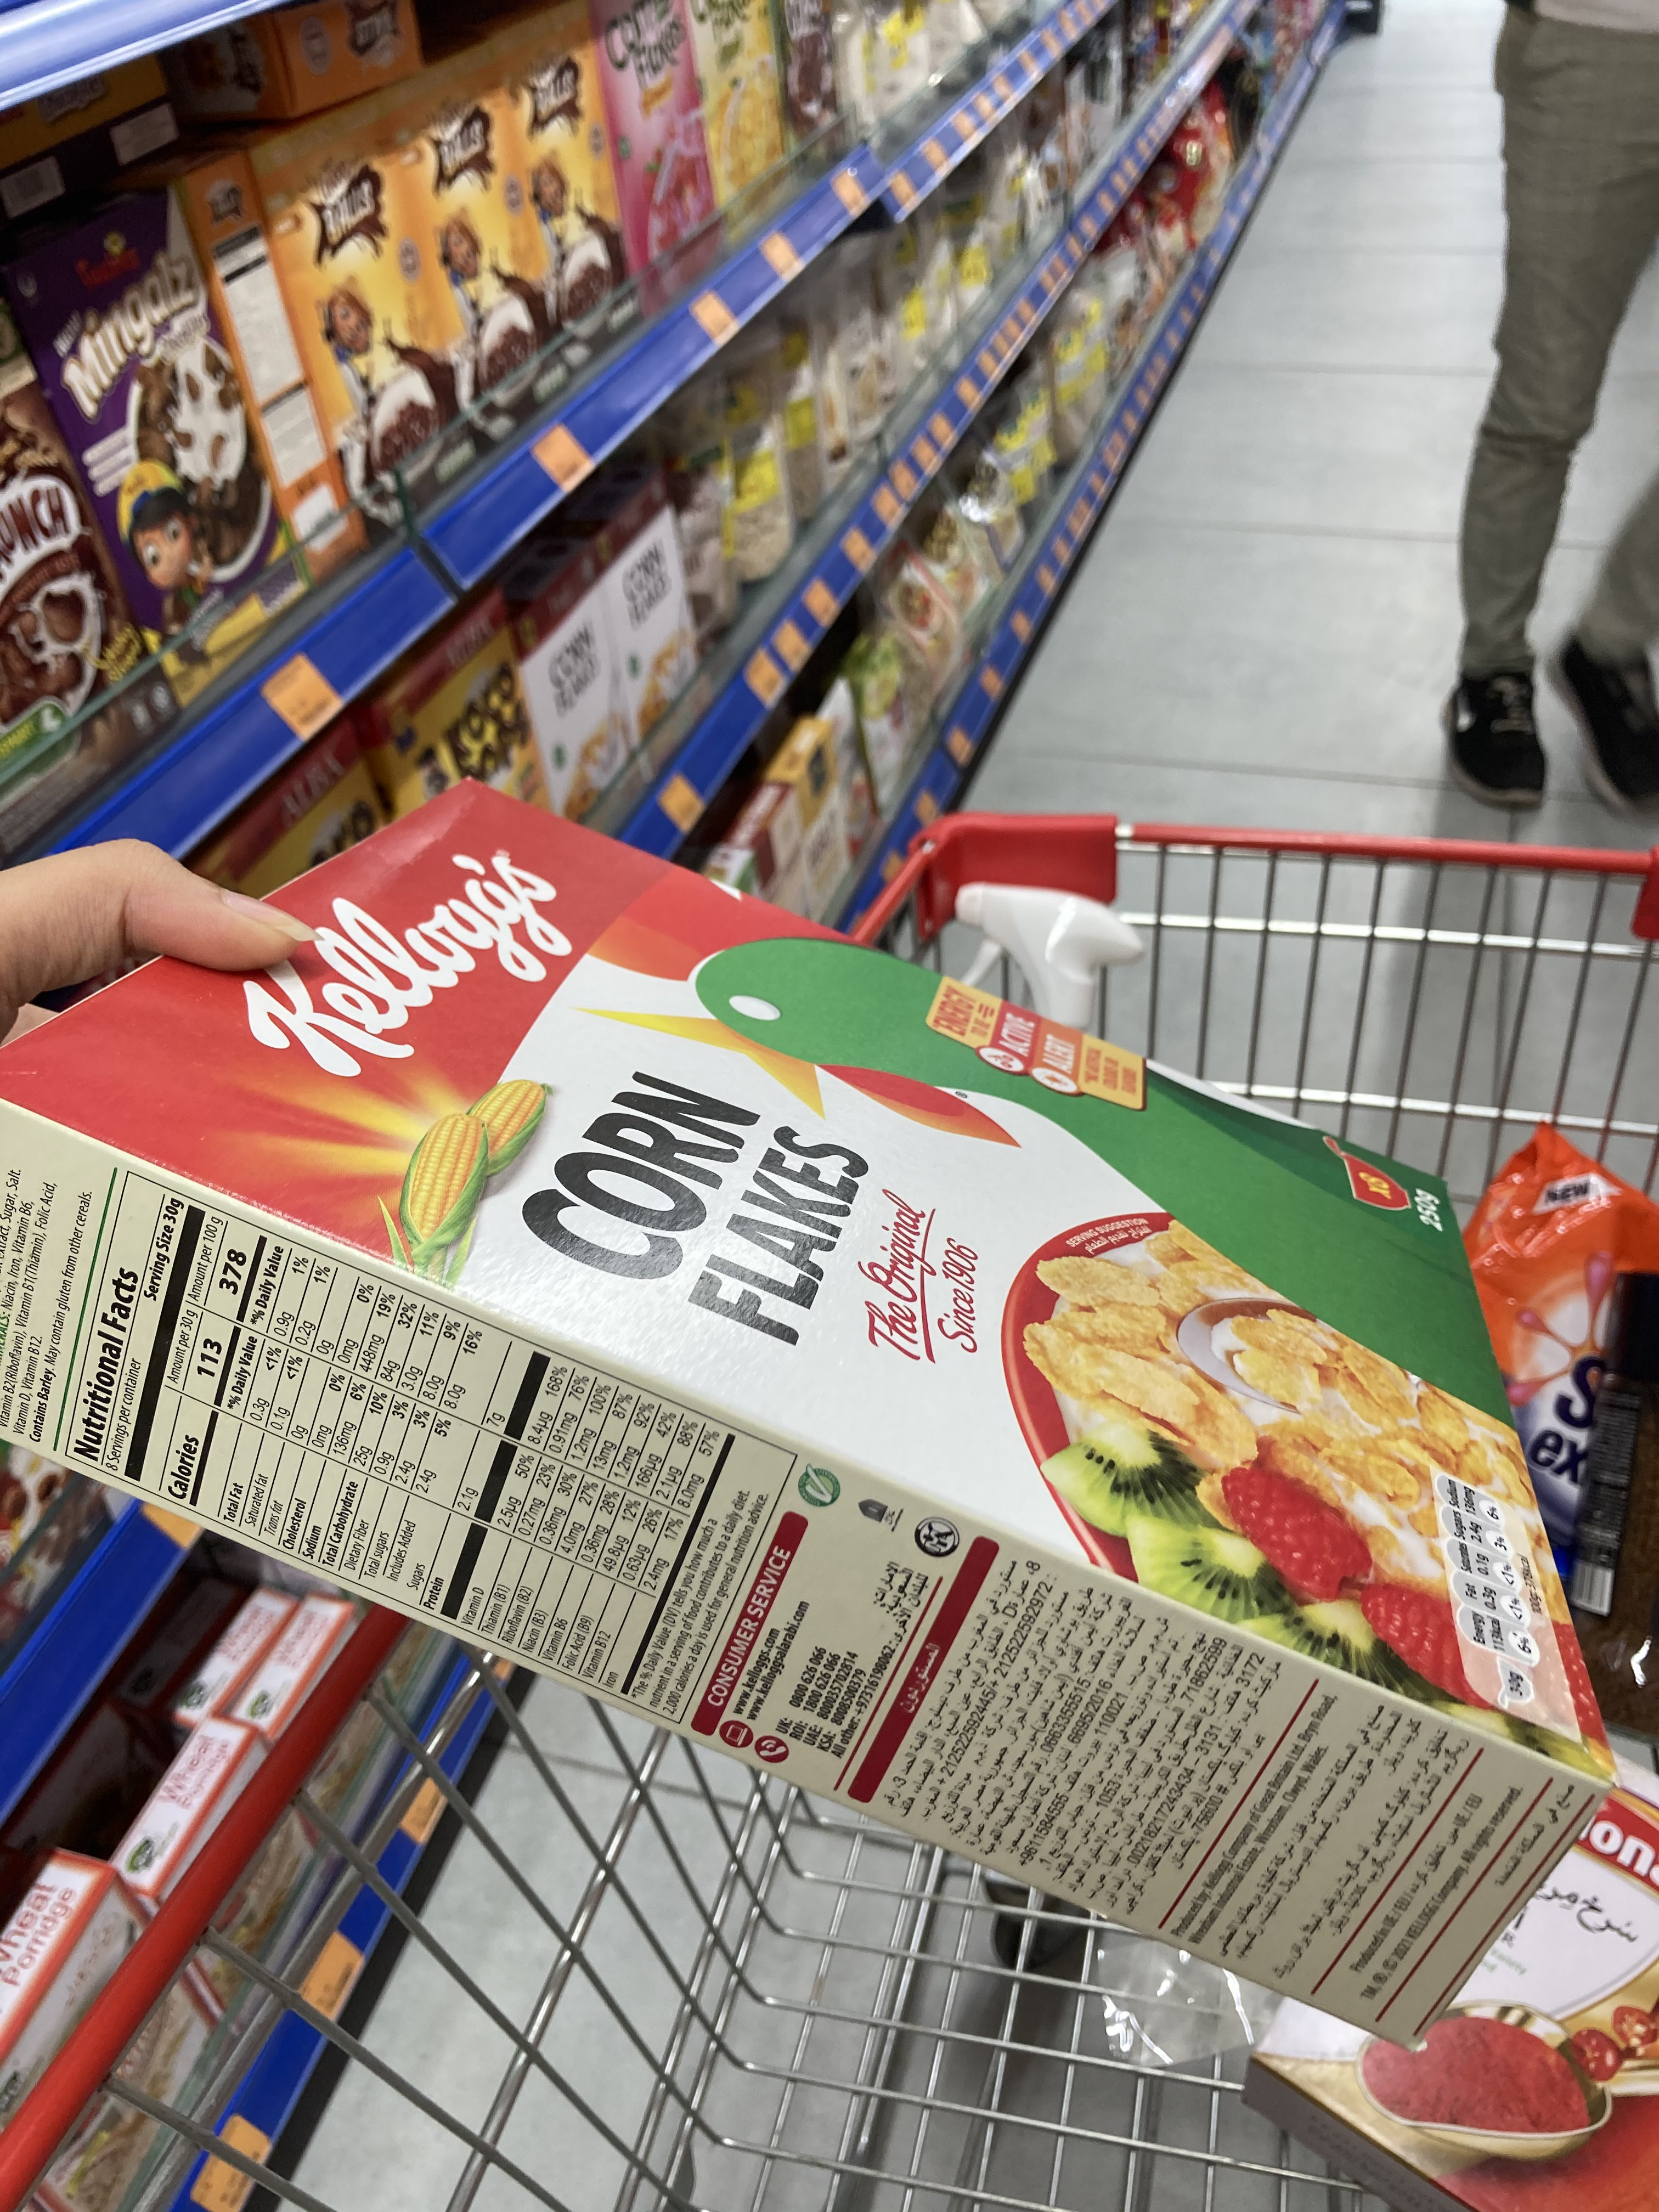Kellogg's Corn Flakes: (5, 780, 1610, 2048)
